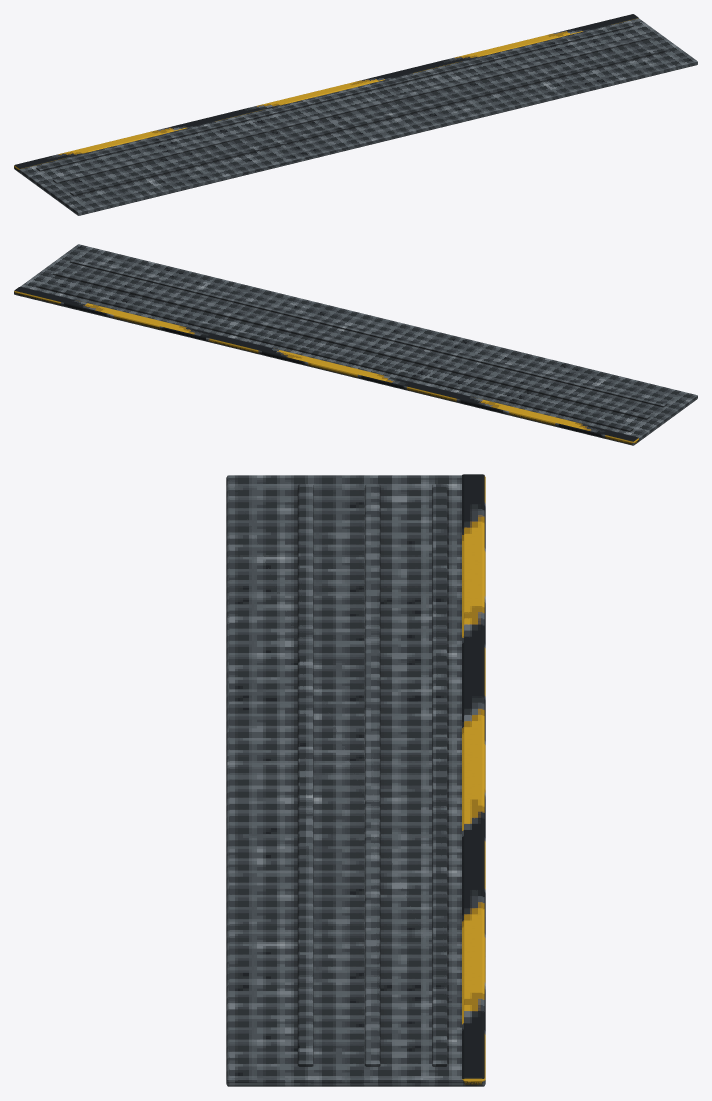
Rendered from base_rack_hatch_leaf.glb.
The picture shows the model from 3 angles, top to bottom: view 1: azimuth 30°, elevation 25°; view 2: azimuth 150°, elevation 25°; view 3: azimuth 270°, elevation 25°; orthographic projection. The views are drawn at different scales.
Visible parts, largest first — view 1: base_rack_hatch_leaf; view 2: base_rack_hatch_leaf; view 3: base_rack_hatch_leaf.
Boxes of the visible parts, left/top/right/bottom form: base_rack_hatch_leaf: left=14, top=14, right=697, bottom=215; base_rack_hatch_leaf: left=14, top=244, right=697, bottom=445; base_rack_hatch_leaf: left=226, top=474, right=485, bottom=1086.
Bounding box in the file's own units: 4.7 × 0.0415 × 0.85.
Materials: 2 (2 with a texture image).
